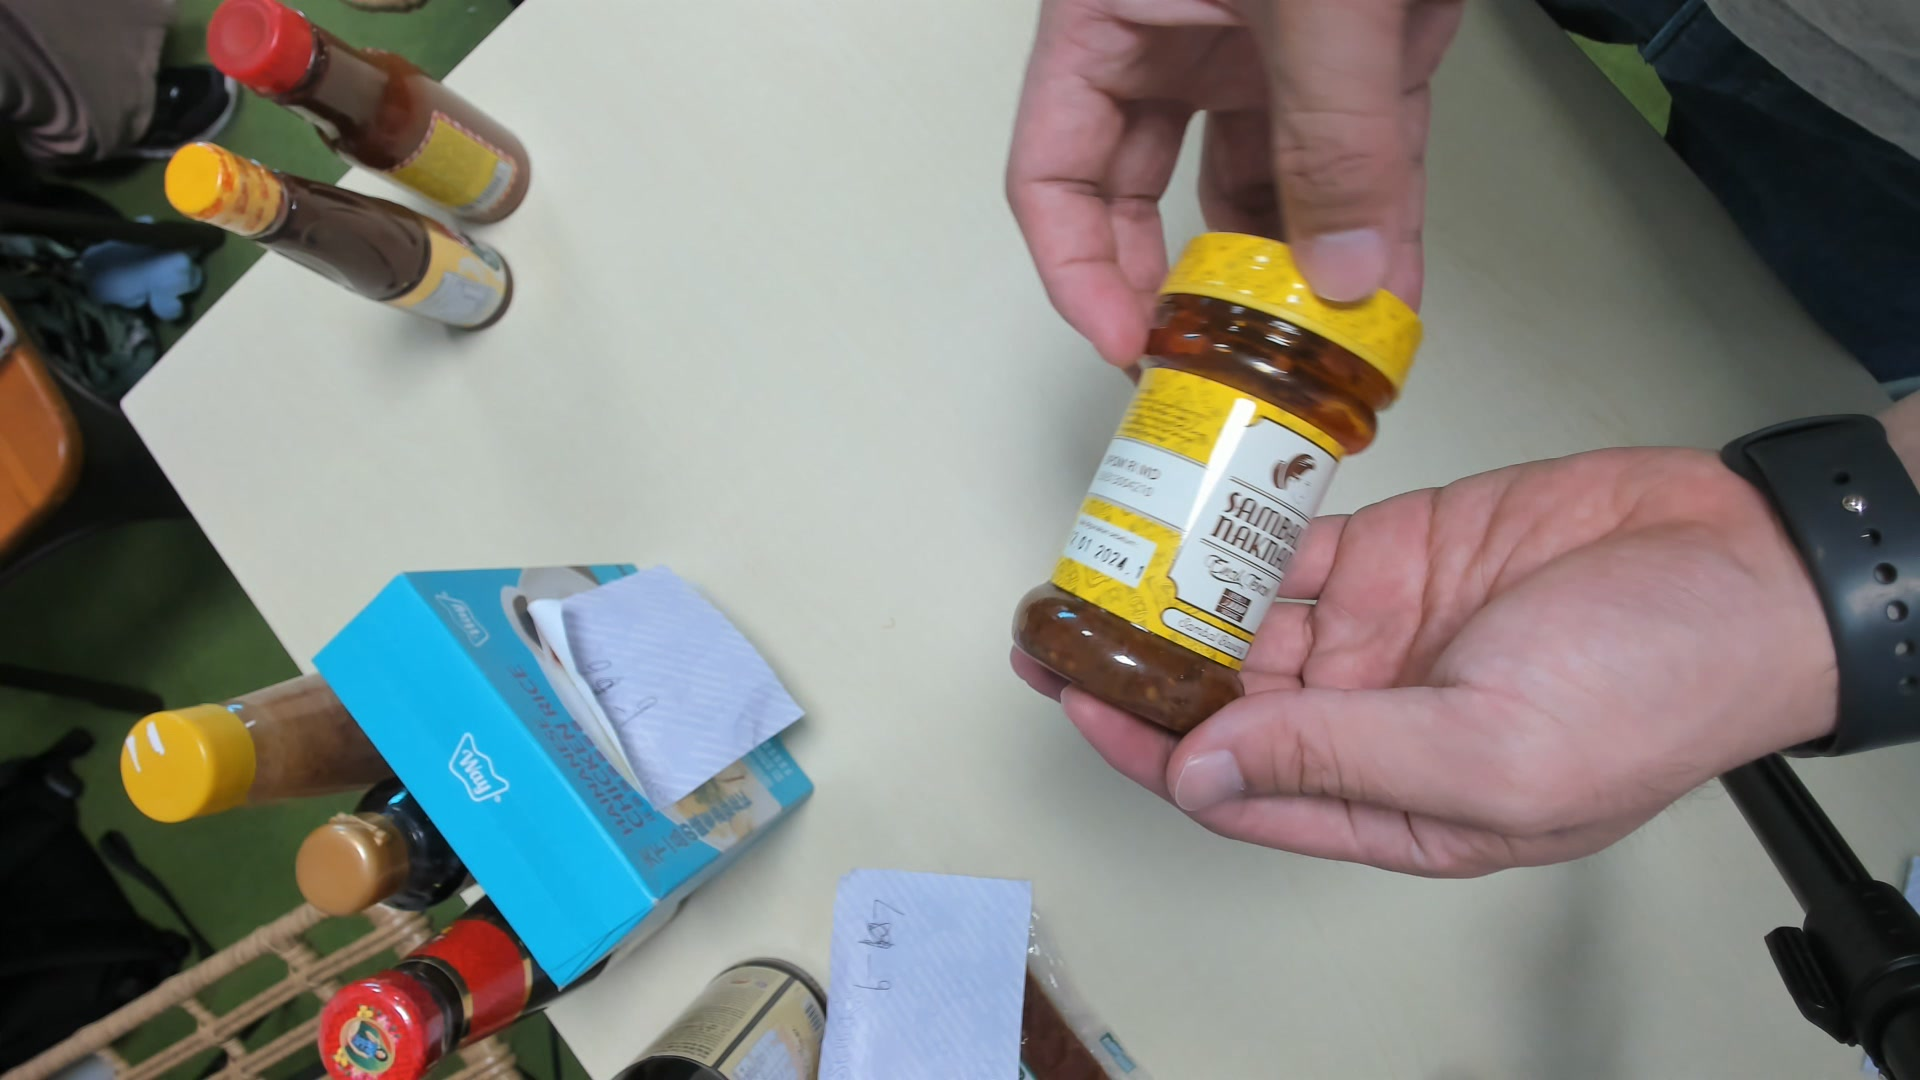KetchupChillSauce_100-199g_Halal_NonHealthy: (1007, 225, 1425, 732)
